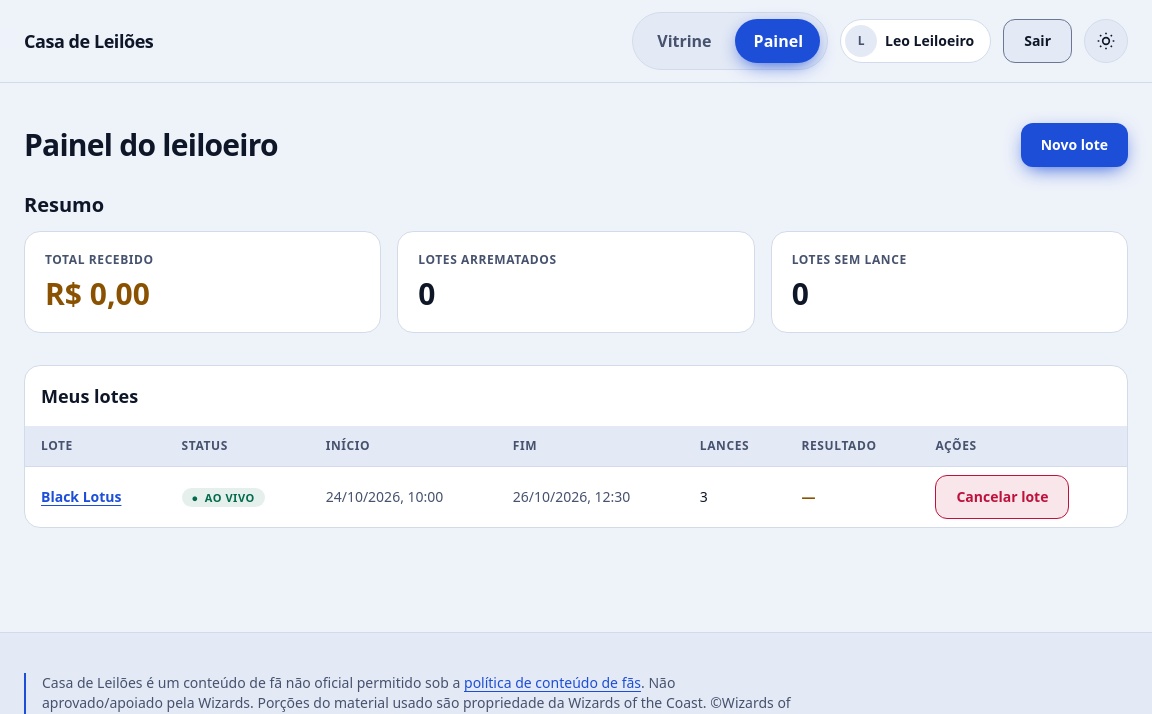
Test: painel: cancelar lote › 409 LOTE_ENCERRADO fecha o diálogo e mostra o alerta
Click the button with aria-label "Cancelar lote Black Lotus".
click(1002, 497)  # box x1=935 y1=475 x2=1070 y2=519
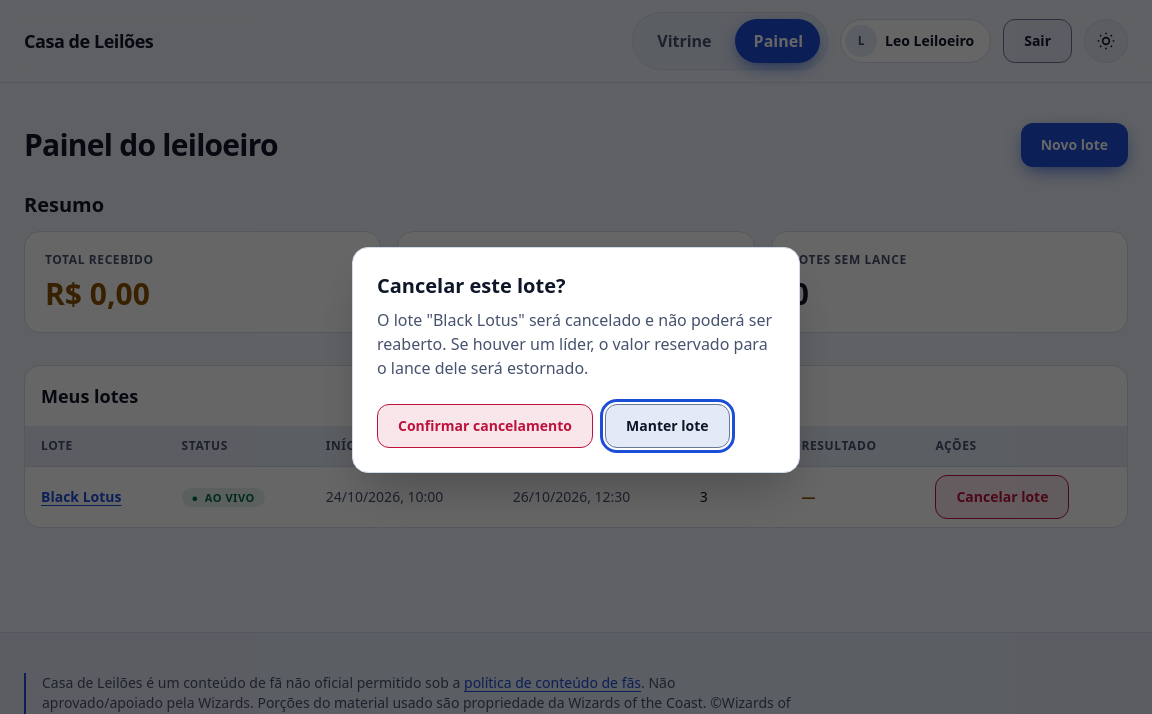
Click the button "Confirmar cancelamento".
click(485, 426)  # box x1=377 y1=404 x2=593 y2=448
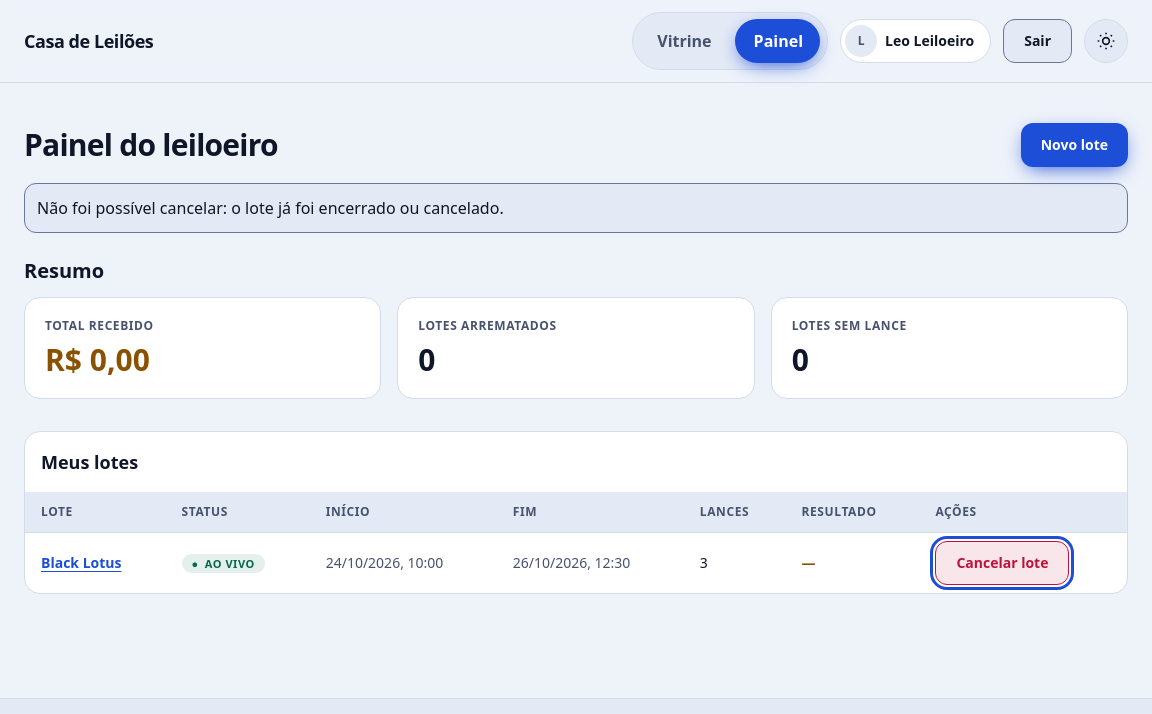
Now the message reads "Não foi possível cancelar: o lote já foi encerrado ou cancelado.", box x1=37 y1=197 x2=504 y2=219
Now the dialog is gone
